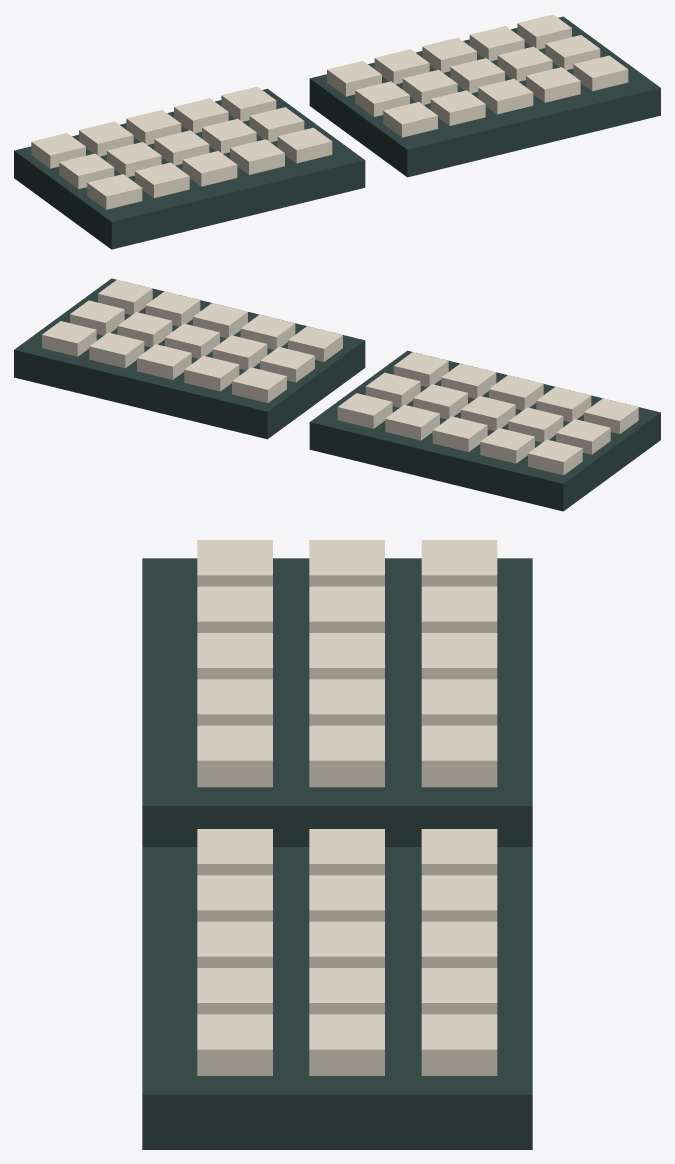
The picture shows the model from 3 angles, top to bottom: view 1: azimuth 30°, elevation 25°; view 2: azimuth 150°, elevation 25°; view 3: azimuth 270°, elevation 25°; orthographic projection. The views are drawn at different scales.
Visible parts, largest first — view 1: body0, body1, key0-2-0, key1-2-0, key1-2-2, key1-2-4, key0-2-4, key1-2-1, key0-2-2, key1-2-3, key0-2-3, key0-2-1 (+20 smaller); view 2: body0, body1, key0-0-4, key0-0-0, key0-0-2, key1-0-0, key1-0-3, key1-0-1, key1-0-2, key0-0-3, key1-0-4, key0-0-1 (+20 smaller); view 3: body1, body0, key0-0-4, key0-1-4, key0-2-4, key1-0-4, key1-1-4, key1-2-4, key0-0-0, key0-0-3, key1-0-1, key0-0-1 (+20 smaller).
Boxes of the visible parts, box(x1,y1,x2,y2) form: body0: box(14, 88, 365, 249); body1: box(309, 16, 660, 177); key0-2-0: box(87, 174, 142, 209); key1-2-0: box(383, 102, 437, 137); key1-2-2: box(478, 78, 533, 114); key1-2-4: box(573, 55, 628, 91); key0-2-4: box(277, 127, 332, 163); key1-2-1: box(430, 90, 485, 125); key0-2-2: box(182, 151, 237, 186); key1-2-3: box(526, 67, 580, 102); key0-2-3: box(230, 139, 284, 174); key0-2-1: box(135, 162, 189, 197); body0: box(309, 350, 660, 511); body1: box(14, 278, 365, 439); key0-0-4: box(337, 393, 392, 428); key0-0-0: box(528, 439, 582, 475); key0-0-2: box(432, 416, 487, 451); key1-0-0: box(232, 367, 286, 402); key1-0-3: box(89, 332, 144, 368); key1-0-1: box(184, 356, 239, 391); key1-0-2: box(137, 344, 191, 379); key0-0-3: box(385, 404, 439, 440); key1-0-4: box(42, 321, 96, 356); key0-0-1: box(480, 428, 534, 463); body1: box(142, 847, 532, 1149); body0: box(142, 558, 532, 846); key0-0-4: box(421, 725, 497, 787); key0-1-4: box(309, 725, 384, 787); key0-2-4: box(197, 725, 272, 787); key1-0-4: box(421, 1014, 497, 1075); key1-1-4: box(309, 1014, 384, 1075); key1-2-4: box(197, 1014, 272, 1075); key0-0-0: box(421, 540, 497, 586); key0-0-3: box(421, 679, 497, 725); key1-0-1: box(421, 875, 497, 921); key0-0-1: box(421, 586, 497, 632).
Size of the model in its own units: 0.52 by 0.037 by 0.16.
